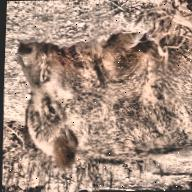boar: (11, 31, 192, 174)
